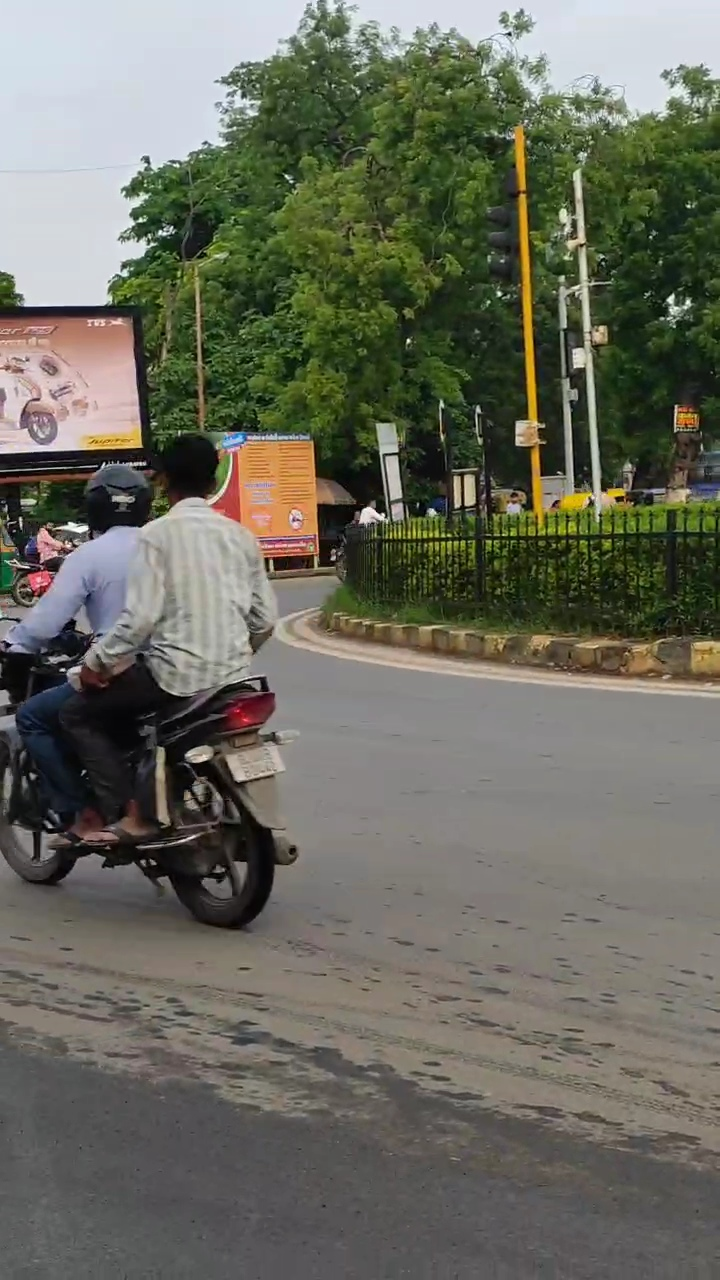BikeWithRider: (0, 433, 304, 935)
Helmet: (76, 462, 153, 531)
NoHelmet: (153, 431, 222, 508)
